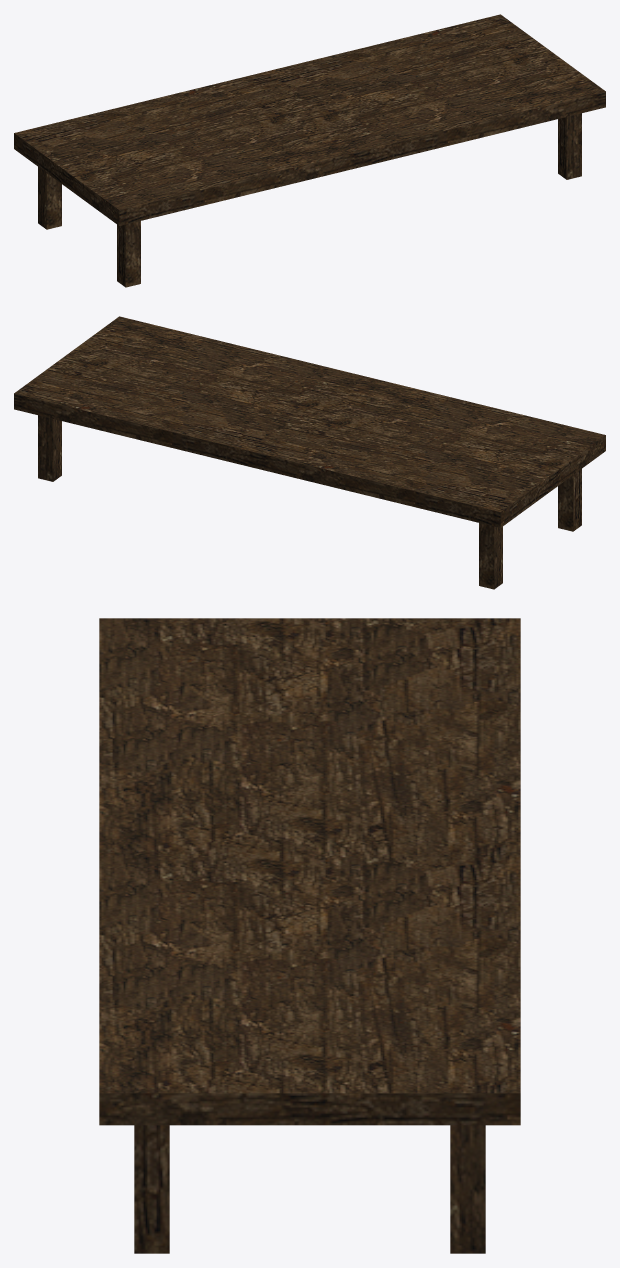
File: table1.obj
3 views of the same model, one above another, from view 1: azimuth 30°, elevation 25°; view 2: azimuth 150°, elevation 25°; view 3: azimuth 270°, elevation 25° (orthographic). The views are drawn at different scales.
Parts seen in each view (by area): view 1: Brush5, Brush4, Brush1, Brush3; view 2: Brush5, Brush3, Brush2, Brush4; view 3: Brush5, Brush1, Brush2.
Boxes of the visible parts, bbox=[...] form: Brush5: bbox=[14, 14, 605, 225]; Brush4: bbox=[117, 221, 140, 287]; Brush1: bbox=[558, 113, 581, 179]; Brush3: bbox=[38, 167, 61, 229]; Brush5: bbox=[14, 316, 605, 527]; Brush3: bbox=[479, 523, 502, 589]; Brush2: bbox=[38, 415, 61, 481]; Brush4: bbox=[558, 469, 581, 531]; Brush5: bbox=[99, 618, 520, 1125]; Brush1: bbox=[134, 1125, 169, 1253]; Brush2: bbox=[450, 1125, 485, 1253].
Size of the model in its own units: 256 by 44 by 96.
